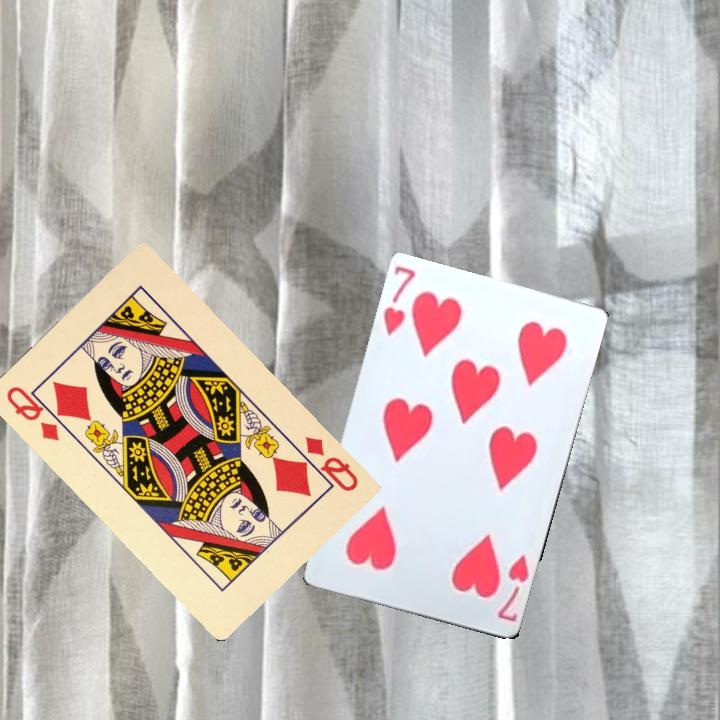7h: (379, 261, 418, 339), (492, 550, 532, 624)
Qd: (290, 432, 361, 496), (2, 382, 75, 444)
